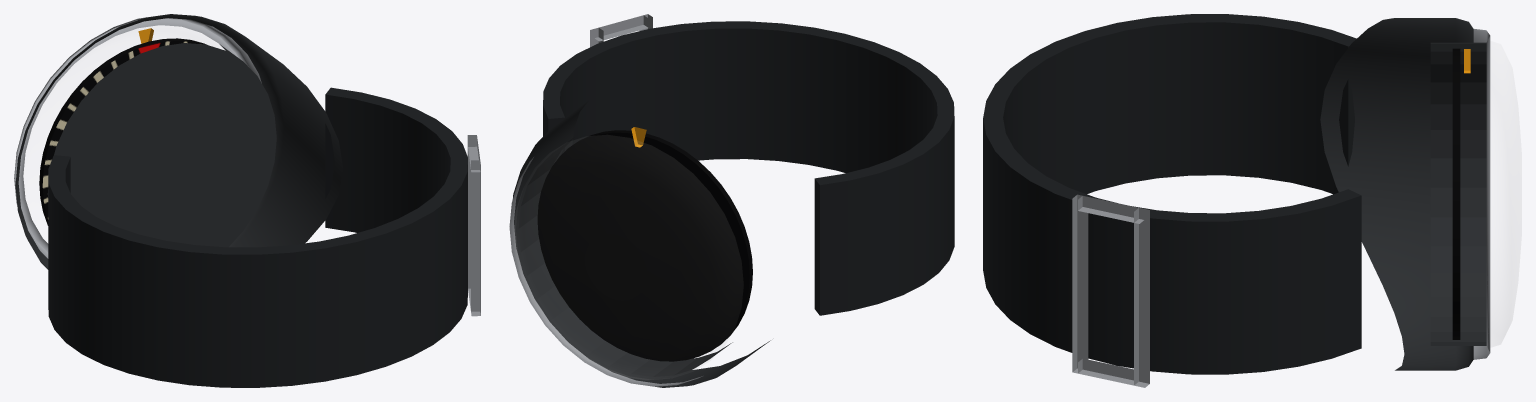
File: wrist_compass.glb
3 renders of one model, left to right at view 1: azimuth 30°, elevation 25°; view 2: azimuth 150°, elevation 25°; view 3: azimuth 270°, elevation 25°, orthographic. The views are drawn at different scales.
Parts seen in each view (by area): view 1: Strap, Case, Card; view 2: Strap, Card, Case, Glass; view 3: Strap, Case, Glass, Card.
Boxes of the visible parts, bbox=[...] form: Strap: bbox=[48, 87, 480, 387]; Case: bbox=[14, 14, 343, 269]; Card: bbox=[39, 38, 206, 225]; Strap: bbox=[543, 14, 954, 315]; Card: bbox=[537, 130, 752, 361]; Case: bbox=[509, 101, 770, 387]; Glass: bbox=[514, 207, 648, 379]; Strap: bbox=[983, 14, 1361, 387]; Case: bbox=[1320, 18, 1490, 370]; Glass: bbox=[1491, 42, 1521, 346]; Card: bbox=[1452, 48, 1460, 339].
Bounding box in the file's own units: 0.0649 × 0.046 × 0.0702.
Materials: 7 (1 with a texture image).
